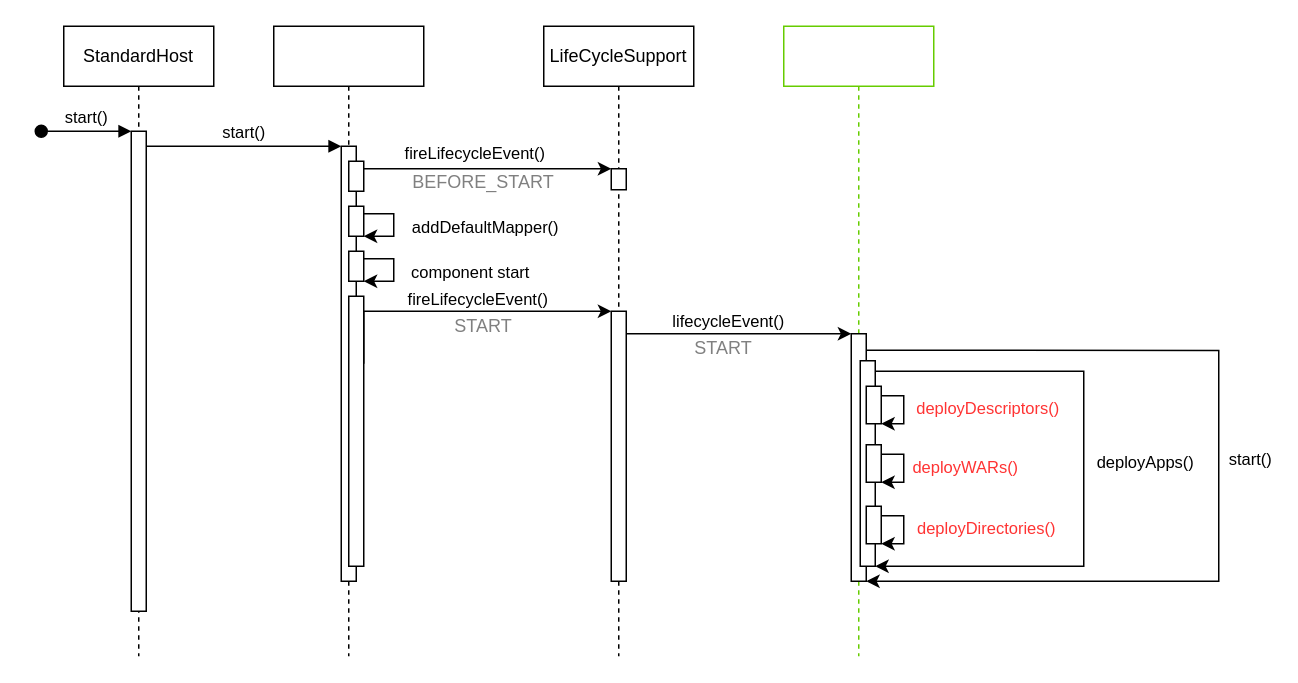
Image size: 1298x683. Some labels were removed from this diagram. The box of each missing label's shape, as (x1, y1, x2, y2) in pixels:
ContainerBase: (272, 25, 424, 656)
HostConfig: (782, 25, 934, 656)
